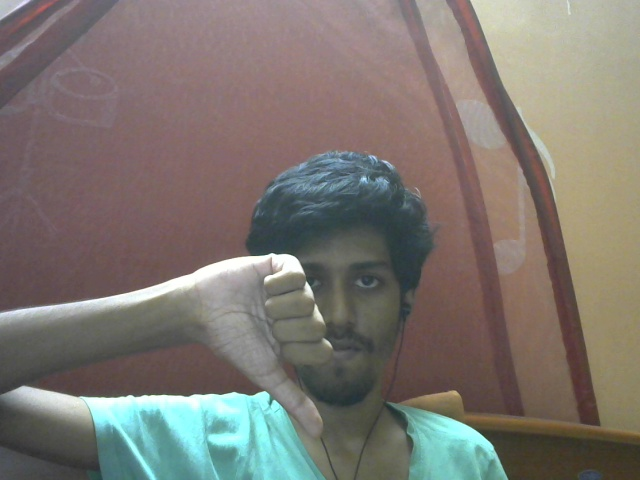ThumbsDown: (195, 252, 333, 435)
